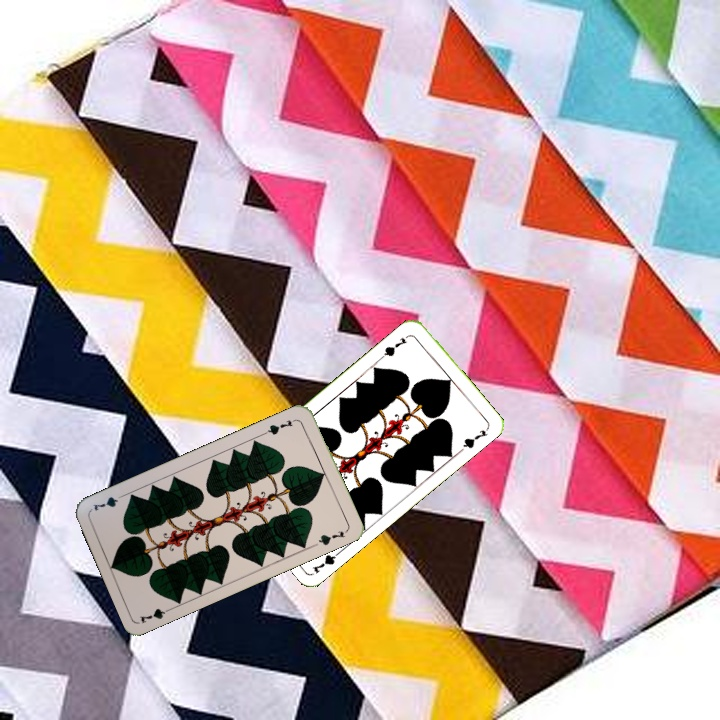G7: (308, 545, 345, 576), (136, 603, 176, 626), (261, 415, 300, 438), (378, 334, 410, 361)
